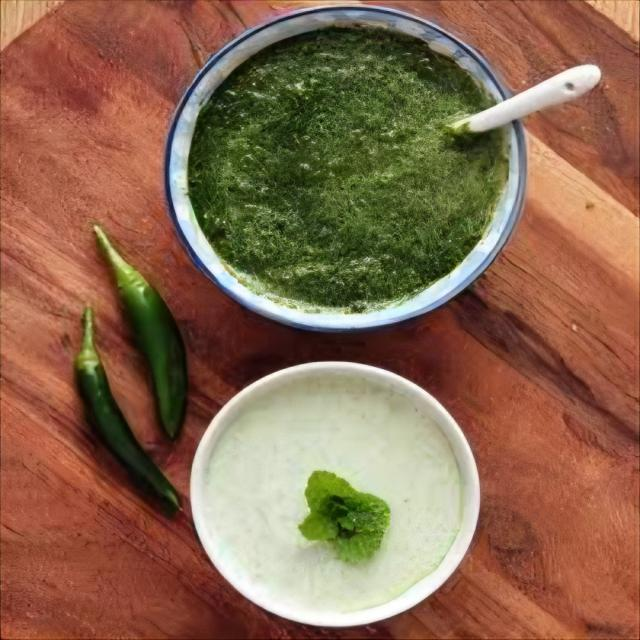CURD: (190, 362, 480, 627)
GREEN CHUTNEY: (189, 29, 507, 313)
